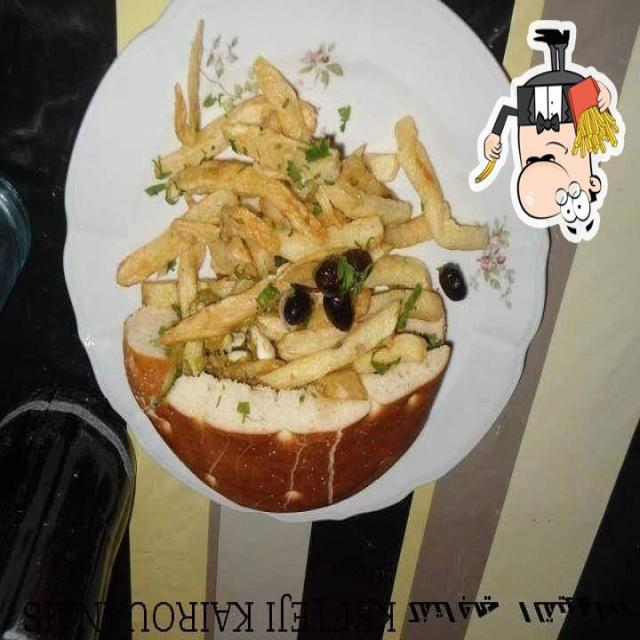Sandwitch tounsi: (110, 247, 466, 511)
